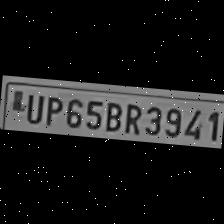1: (202, 108, 223, 142)
3: (141, 103, 164, 136)
4: (181, 104, 204, 140)
5: (84, 97, 104, 130)
6: (61, 94, 83, 129)
9: (160, 104, 182, 138)
B: (102, 97, 124, 132)
P: (42, 92, 64, 128)
R: (120, 100, 142, 135)
U: (22, 91, 44, 123)
